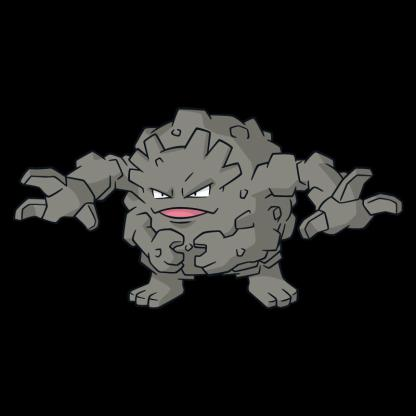Graveler: (17, 107, 414, 322)
